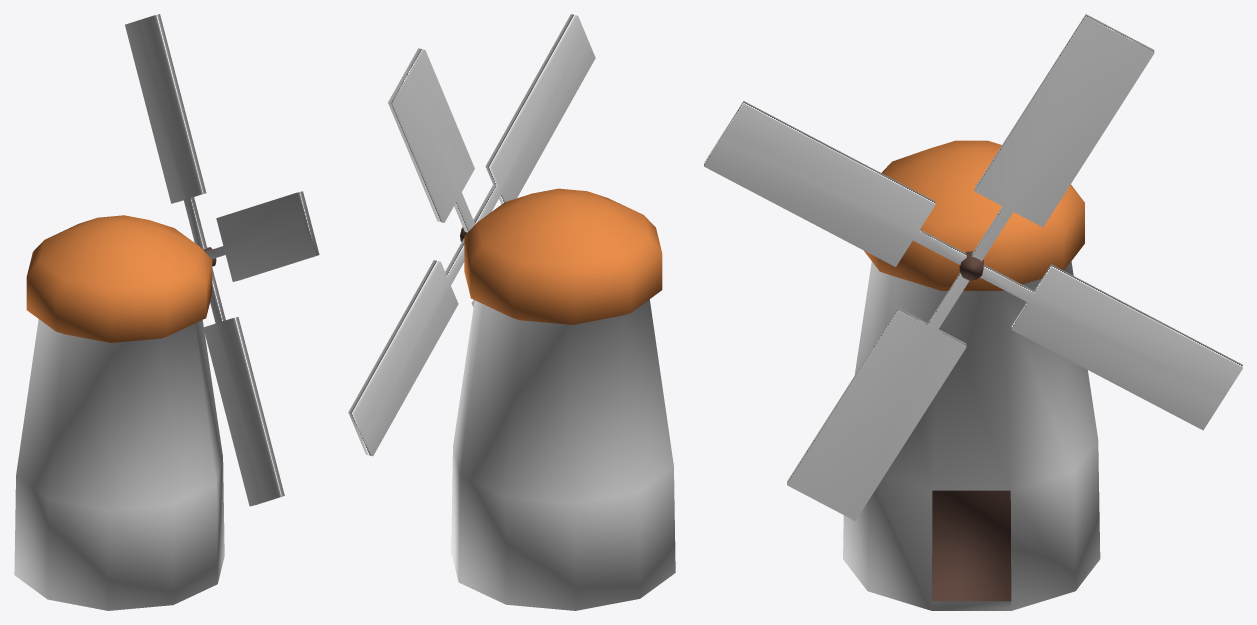
File: windmill.glb
The picture shows the model from 3 angles, left to right: view 1: azimuth 30°, elevation 25°; view 2: azimuth 150°, elevation 25°; view 3: azimuth 270°, elevation 25°; orthographic projection. The views are drawn at different scales.
Visible parts, largest first — view 1: Cylinder-col, Cube.001-col, Cube.002-col, Cube.003-col; view 2: Cylinder-col, Cube.004-col, Cube.003-col, Cube.001-col; view 3: Cylinder-col, Cube.004-col, Cube.003-col, Cube.001-col, Cube.002-col.
Part boxes in pixels (x1,y1,x2,y2): Cylinder-col: (14, 215, 224, 610); Cube.001-col: (125, 14, 207, 249); Cube.002-col: (204, 268, 284, 506); Cube.003-col: (205, 191, 319, 281); Cylinder-col: (451, 188, 675, 610); Cube.004-col: (348, 238, 464, 456); Cube.003-col: (473, 14, 595, 224); Cube.001-col: (388, 48, 474, 232); Cylinder-col: (843, 140, 1100, 610); Cube.004-col: (980, 264, 1242, 430); Cube.003-col: (704, 101, 966, 266); Cube.001-col: (972, 14, 1154, 261); Cube.002-col: (787, 273, 969, 520).
Size of the model in its own units: 1.94 by 5.09 by 4.19.
